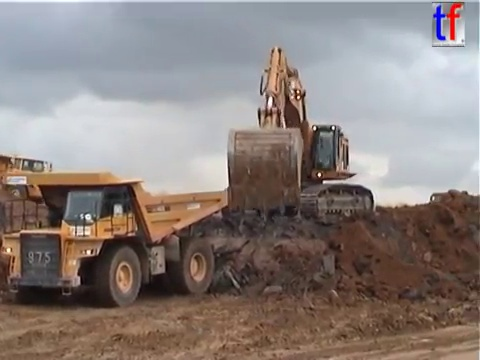excavator: (218, 44, 378, 226)
truck: (1, 168, 231, 310), (1, 153, 54, 208), (427, 189, 480, 225)
